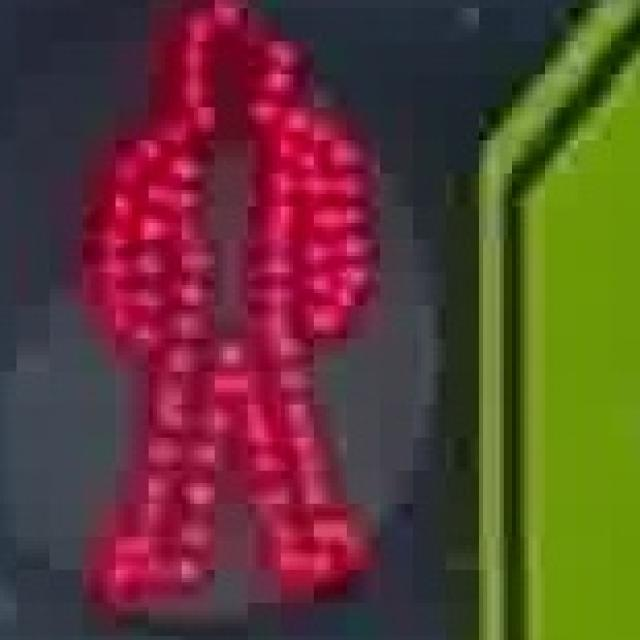red-crossing: (56, 7, 387, 614)
